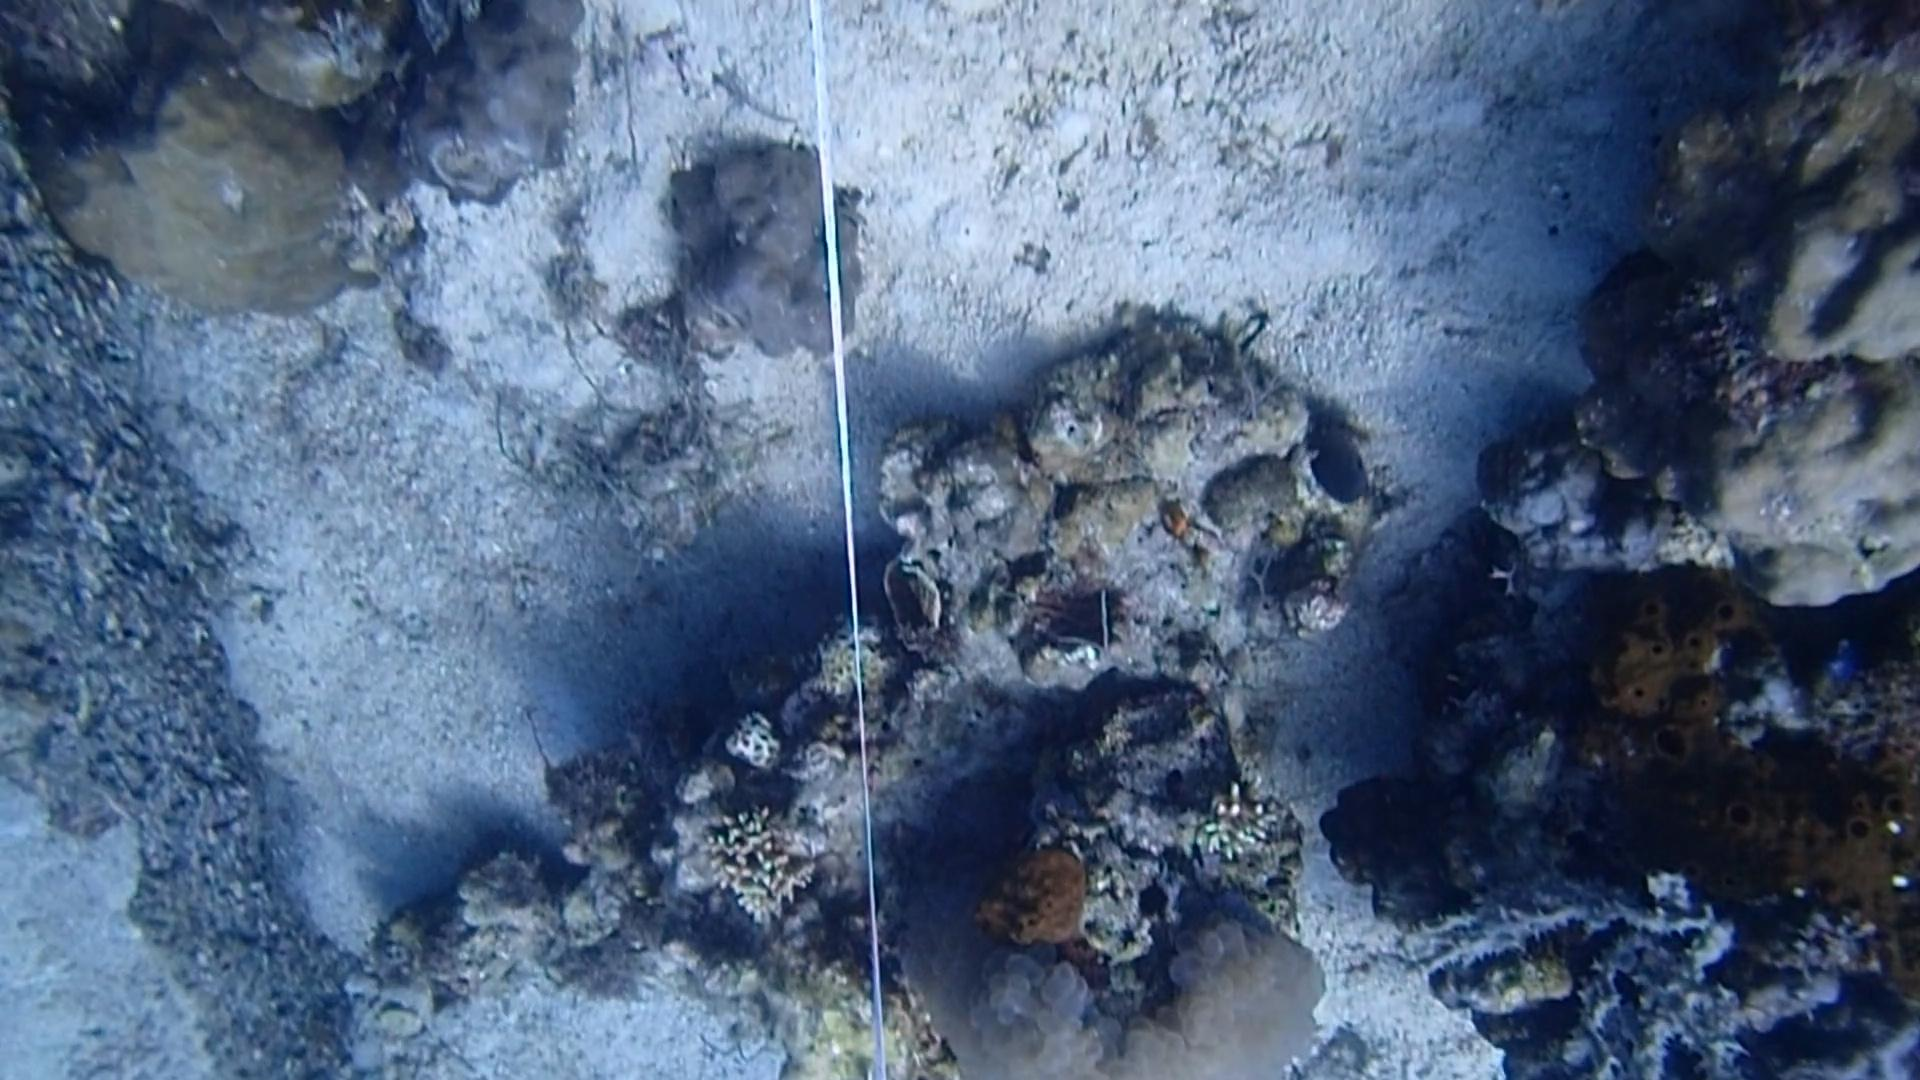Big Dark Blue Fish: (1284, 415, 1385, 525)
